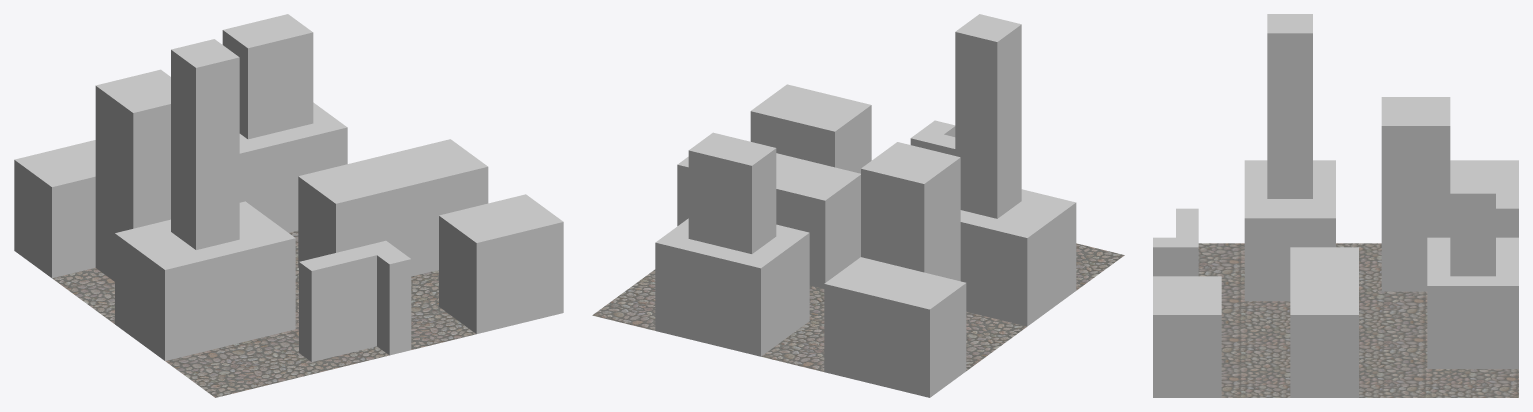
The model's file is tile1.fbx.
The picture shows the model from 3 angles, left to right: view 1: azimuth 30°, elevation 25°; view 2: azimuth 150°, elevation 25°; view 3: azimuth 270°, elevation 25°; orthographic projection. The views are drawn at different scales.
Parts seen in each view (by area): view 1: Tile 2; view 2: Tile 2; view 3: Tile 2.
Part boxes in pixels (<box>): Tile 2: <box>14,14,563,397</box>; Tile 2: <box>592,14,1124,397</box>; Tile 2: <box>1153,14,1518,397</box>.
Bounding box in the file's own units: 1600 × 1200 × 1600.
